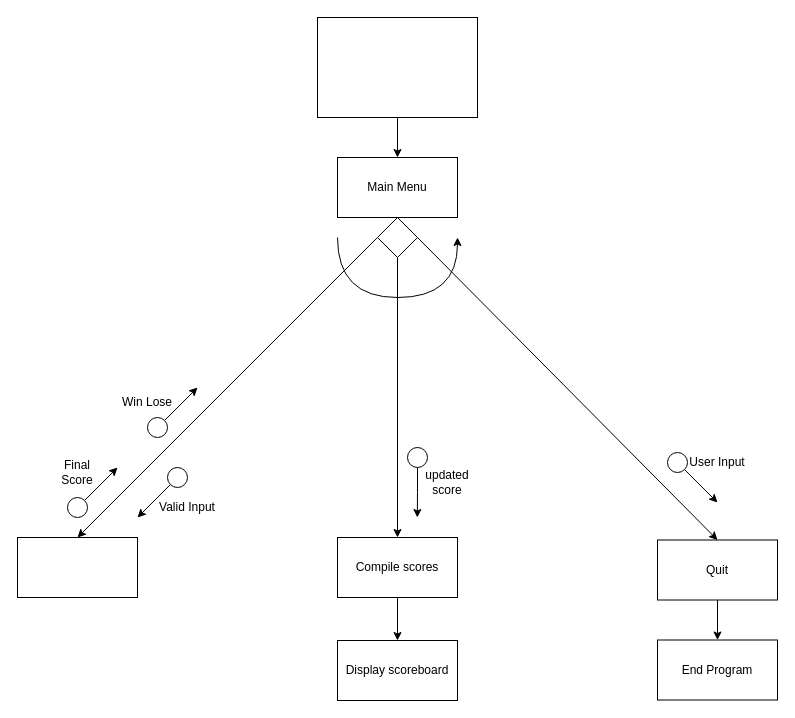
The diagram is 795 pixels wide and 718 high, and some of its shapes have lost their labels. The shapes that lost their labels are listed below. From the top down, each one's centre as x and y in pixels, then its label:
the point at 397,67: .PY
the point at 77,567: Play Game
